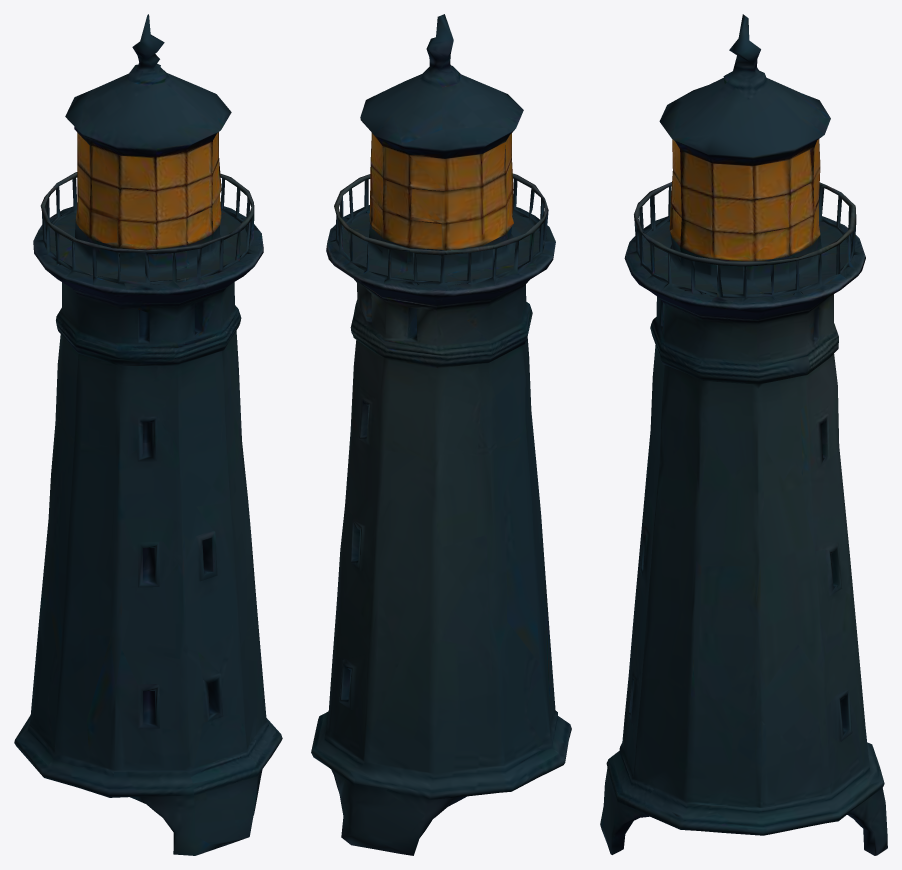
The model's file is 3d-latarnia.glb.
3 renders of one model, left to right at view 1: azimuth 30°, elevation 25°; view 2: azimuth 150°, elevation 25°; view 3: azimuth 270°, elevation 25°, orthographic. The views are drawn at different scales.
Parts seen in each view (by area): view 1: tripo_node_c125ef8e-1a2d-464d-bea7-62ee1ea7b866; view 2: tripo_node_c125ef8e-1a2d-464d-bea7-62ee1ea7b866; view 3: tripo_node_c125ef8e-1a2d-464d-bea7-62ee1ea7b866.
Part boxes in pixels (left/top/right/bottom): tripo_node_c125ef8e-1a2d-464d-bea7-62ee1ea7b866: left=14, top=14, right=282, bottom=855; tripo_node_c125ef8e-1a2d-464d-bea7-62ee1ea7b866: left=311, top=14, right=571, bottom=855; tripo_node_c125ef8e-1a2d-464d-bea7-62ee1ea7b866: left=600, top=14, right=887, bottom=855.
Size of the model in its own units: 0.3057 by 1 by 0.3173.
1 material, 1 textured.
